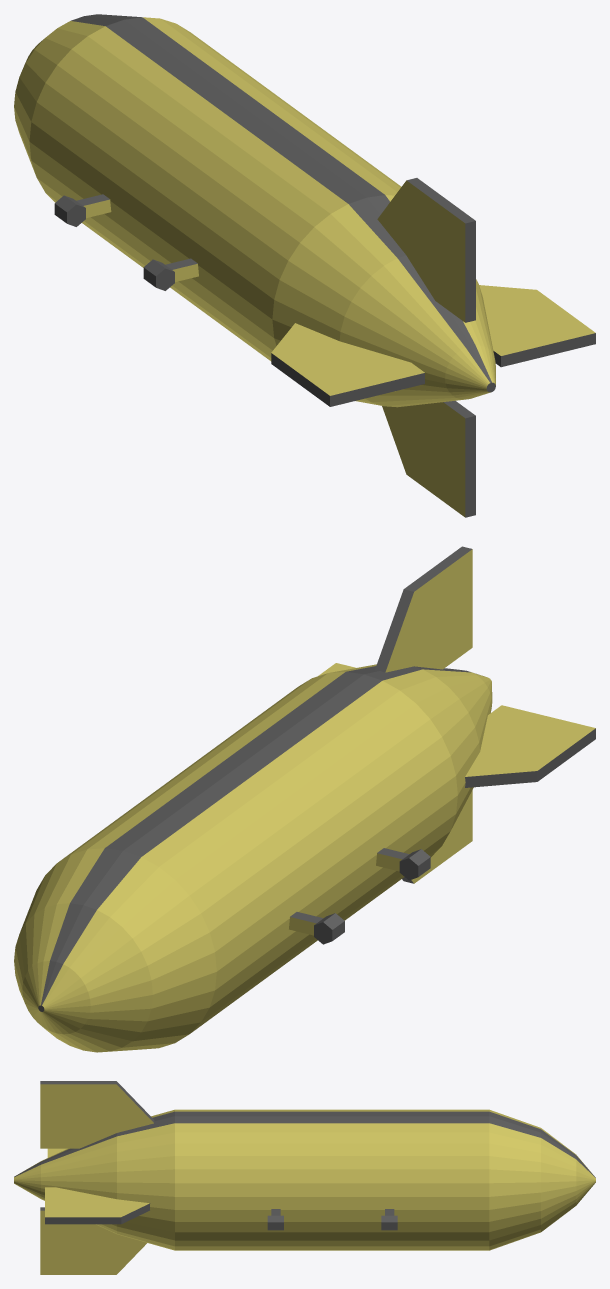
The model's file is zeppelin.dae.
The picture shows the model from 3 angles, top to bottom: view 1: azimuth 30°, elevation 25°; view 2: azimuth 150°, elevation 25°; view 3: azimuth 270°, elevation 25°; orthographic projection. The views are drawn at different scales.
Visible parts, largest first — view 1: Cylinder; view 2: Cylinder; view 3: Cylinder.
Part boxes in pixels (x1,y1,x2,y2): Cylinder: (14, 14, 595, 517); Cylinder: (14, 546, 595, 1052); Cylinder: (14, 1081, 595, 1274).
Bounding box in the file's own units: 21.09 × 59.44 × 21.46.
